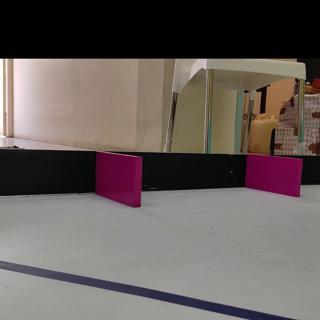xparking: (99, 156, 141, 206), (248, 159, 300, 197)
